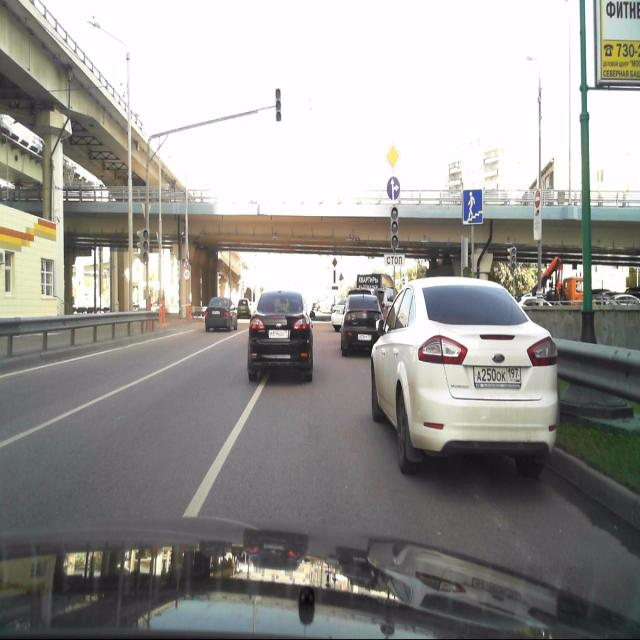road sign: (462, 188, 482, 225), (386, 146, 398, 170)
